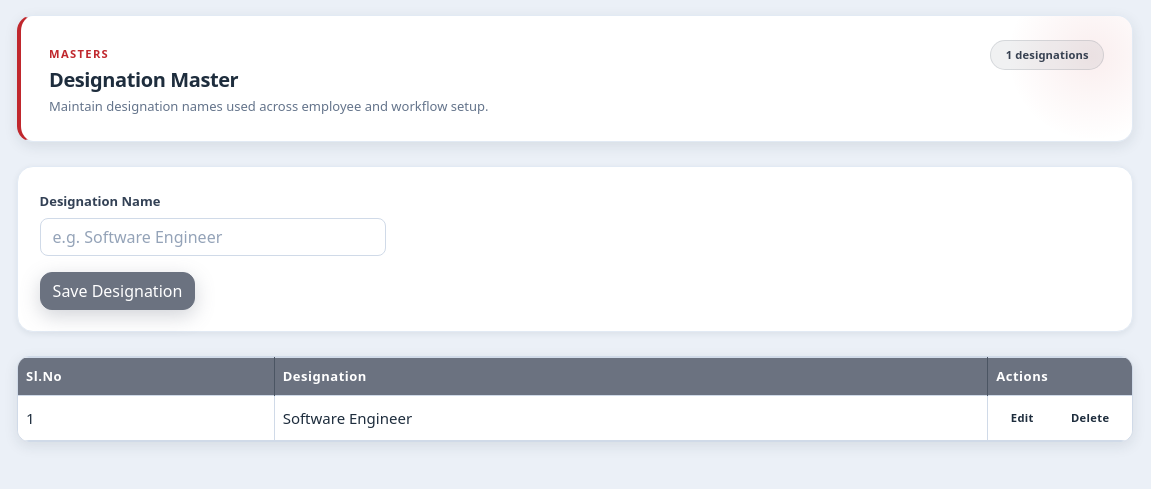
Test: input validation › shows 'already exists' error for a name matching the list (case-insensitive)
Expected: the text "Software Engineer" is shown, [274, 396, 988, 441]
Type "software engineer" into the field with placeholder "e.g. Software Engineer" at (213, 237), box [40, 218, 386, 256]
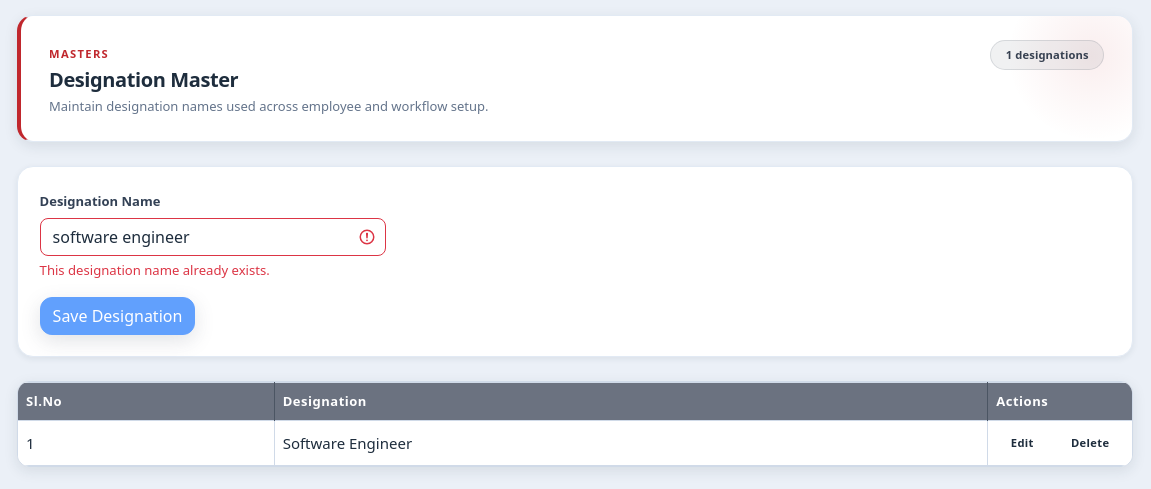
Expected: the text "This designation name already exists." is shown, [40, 261, 270, 279]
